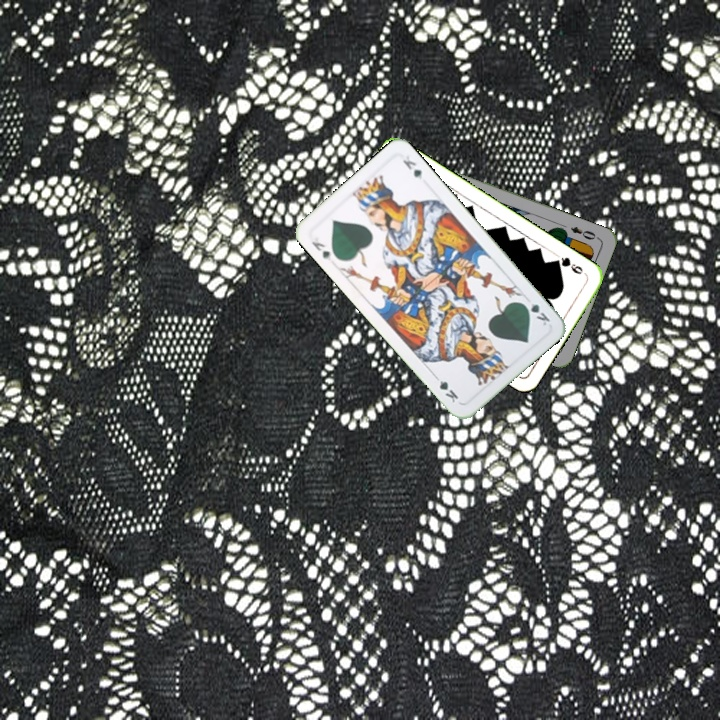EO: (566, 222, 602, 242)
G9: (550, 253, 585, 277)
GK: (518, 298, 553, 328), (307, 237, 333, 263)
